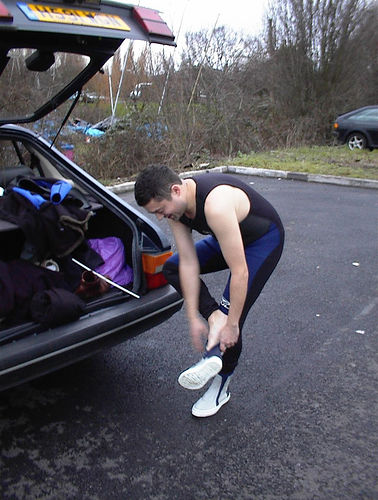without_mask: (142, 178, 188, 223)
